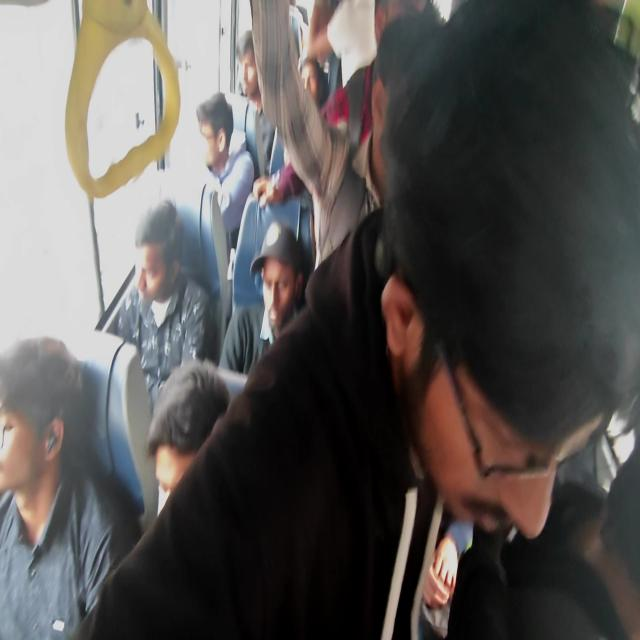person: (402, 105, 640, 539), (0, 340, 78, 588), (372, 38, 446, 180), (146, 378, 224, 498), (256, 236, 322, 366), (126, 210, 188, 326), (363, 6, 440, 76), (228, 28, 277, 120), (295, 56, 334, 152), (191, 101, 226, 176)
